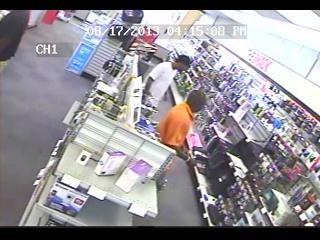Normal: (158, 89, 208, 161), (142, 54, 190, 112), (0, 10, 31, 62)
